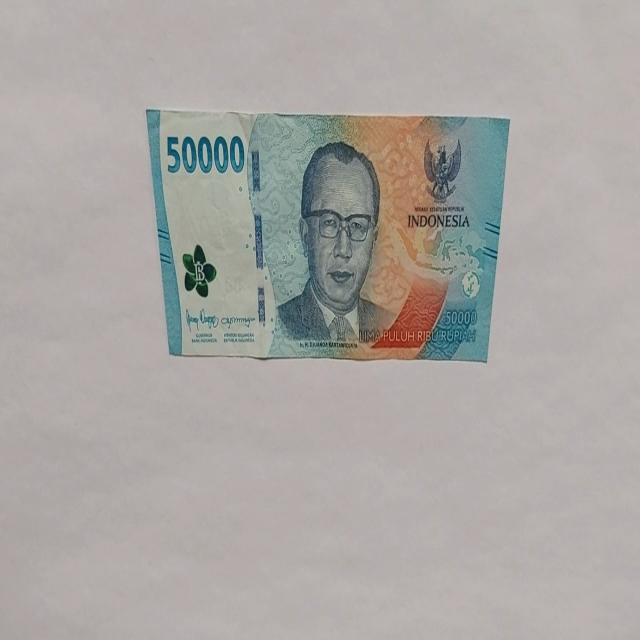lima puluh ribu rupiah: (145, 106, 510, 364), (275, 140, 397, 346), (164, 130, 246, 176)
